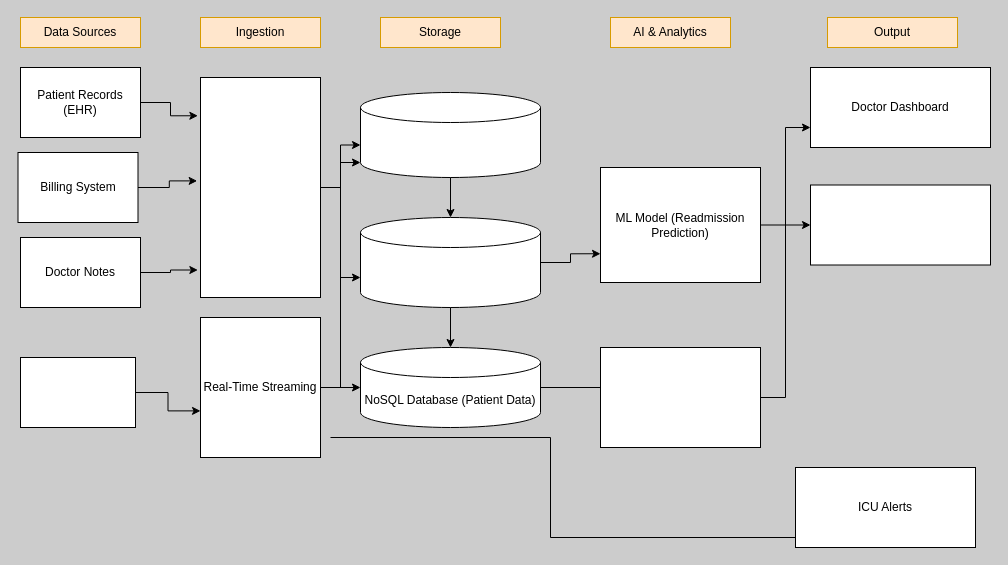
Some shapes in this 1008 by 565 pixel diagram are drawn without their labels. The box of each missing label's shape, as (x1, y1, x2, y2) in pixels:
Batch Processing: (200, 76, 320, 298)
Data Lake (Raw Data): (360, 92, 540, 178)
Data Warehouse (Reports): (360, 216, 540, 308)
ICU Devices (Vitals): (20, 356, 136, 428)
Management Reports: (810, 184, 990, 265)
NLP Engine (Doctor Queries): (600, 346, 760, 448)
